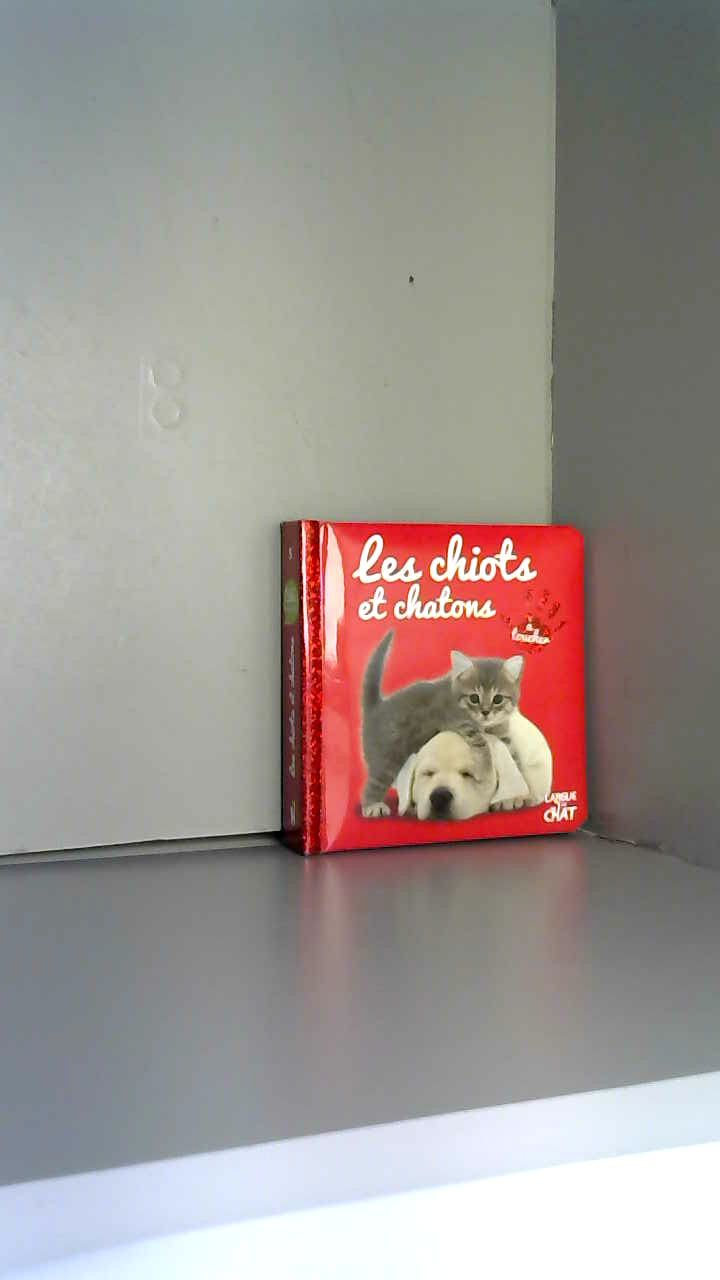book: (264, 503, 605, 871)
